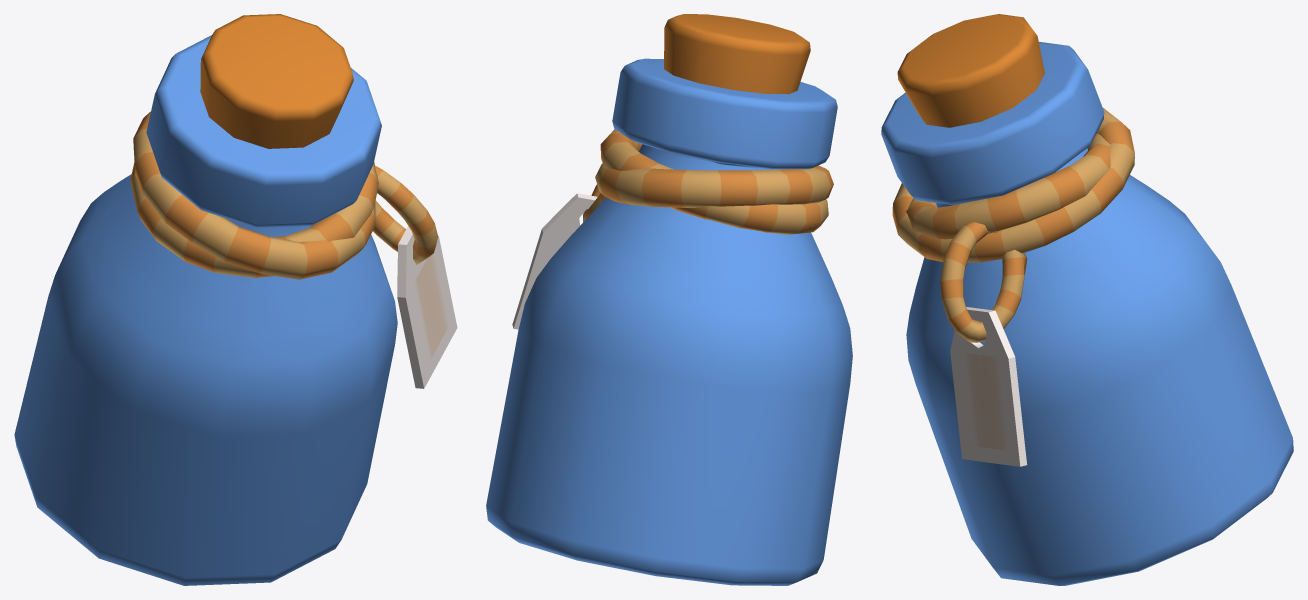
3 renders of one model, left to right at view 1: azimuth 30°, elevation 25°; view 2: azimuth 150°, elevation 25°; view 3: azimuth 270°, elevation 25°, orthographic. The views are drawn at different scales.
Visible parts, largest first — view 1: model_1.119; view 2: model_1.119; view 3: model_1.119.
Boxes of the visible parts, left/top/right/bottom form: model_1.119: left=14, top=14, right=457, bottom=585; model_1.119: left=486, top=14, right=852, bottom=585; model_1.119: left=881, top=14, right=1293, bottom=585.
Bounding box in the file's own units: 2.94 × 4.26 × 3.05.
